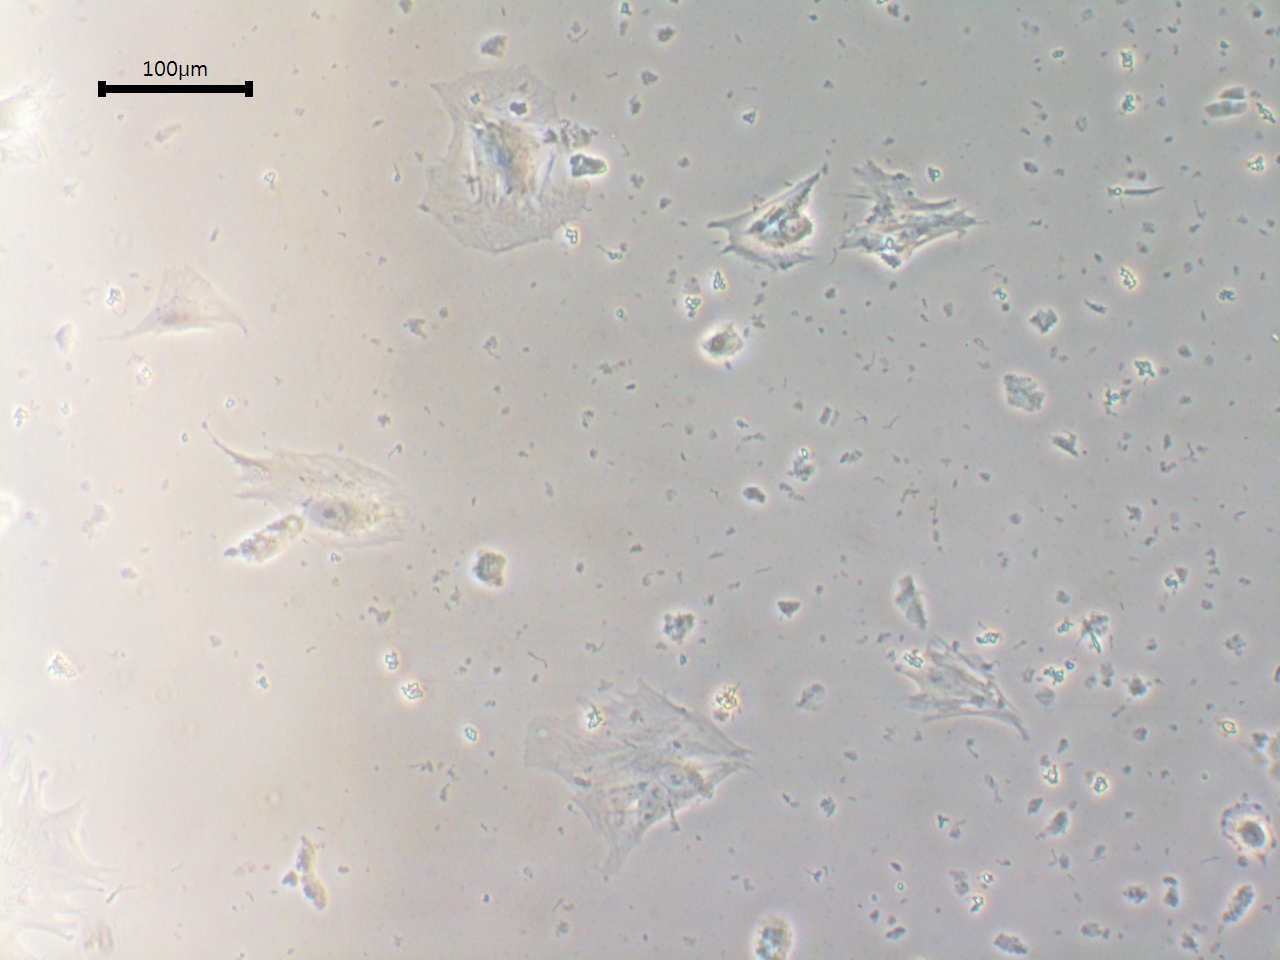dividing: (516, 673, 772, 879)
medium-spread: (412, 58, 606, 266), (193, 415, 427, 550), (837, 148, 981, 284), (882, 627, 1016, 747), (711, 146, 825, 285)
